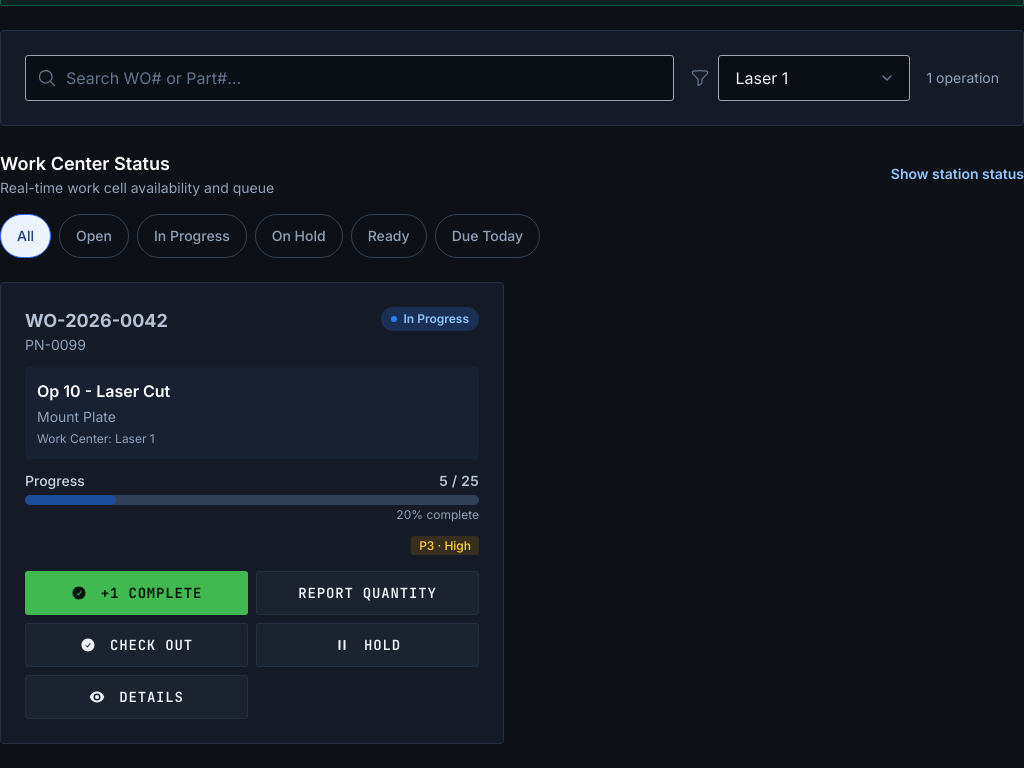
Scenario: ShopFloorSimple over-count correction › requires a reason and blocks submit until one is entered
The image size is (1024, 768).
(page scrolled)
Expected: the element with test id "shop-floor-op-101" is shown, [0,282,504,744]
Click the button "Report quantity": [368, 592] box [256,570,479,614]
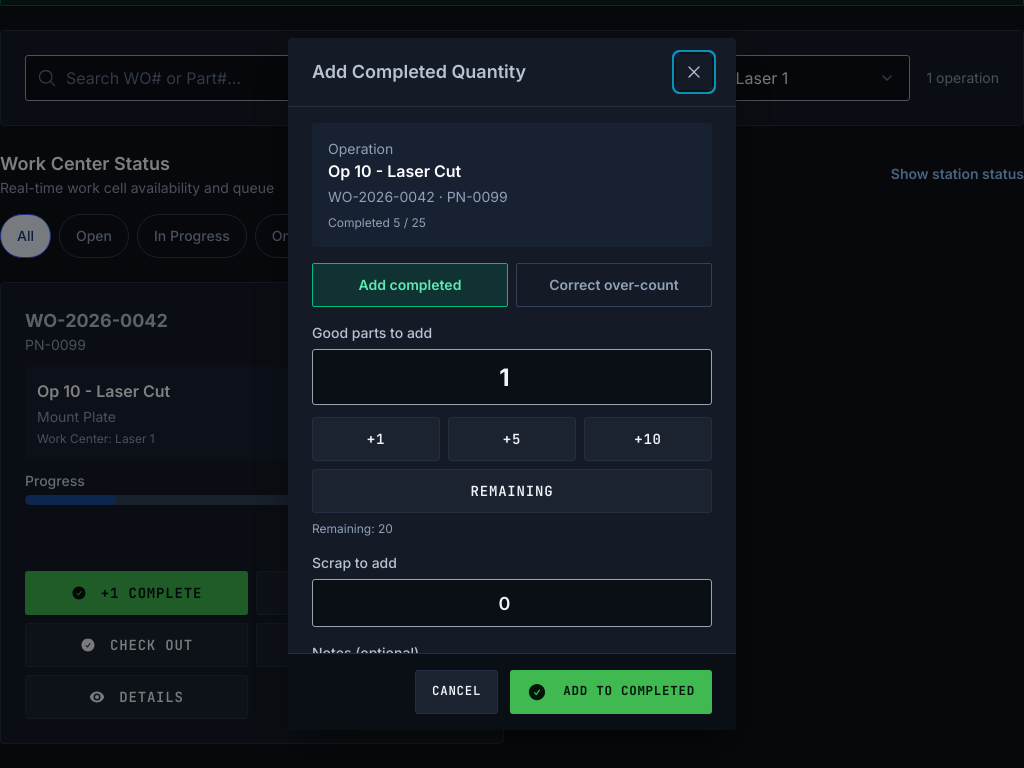
Expected: the heading "Add Completed Quantity" is shown, [312,58,526,86]
Click the button "Correct over-count": [614, 285] box [516,263,712,307]
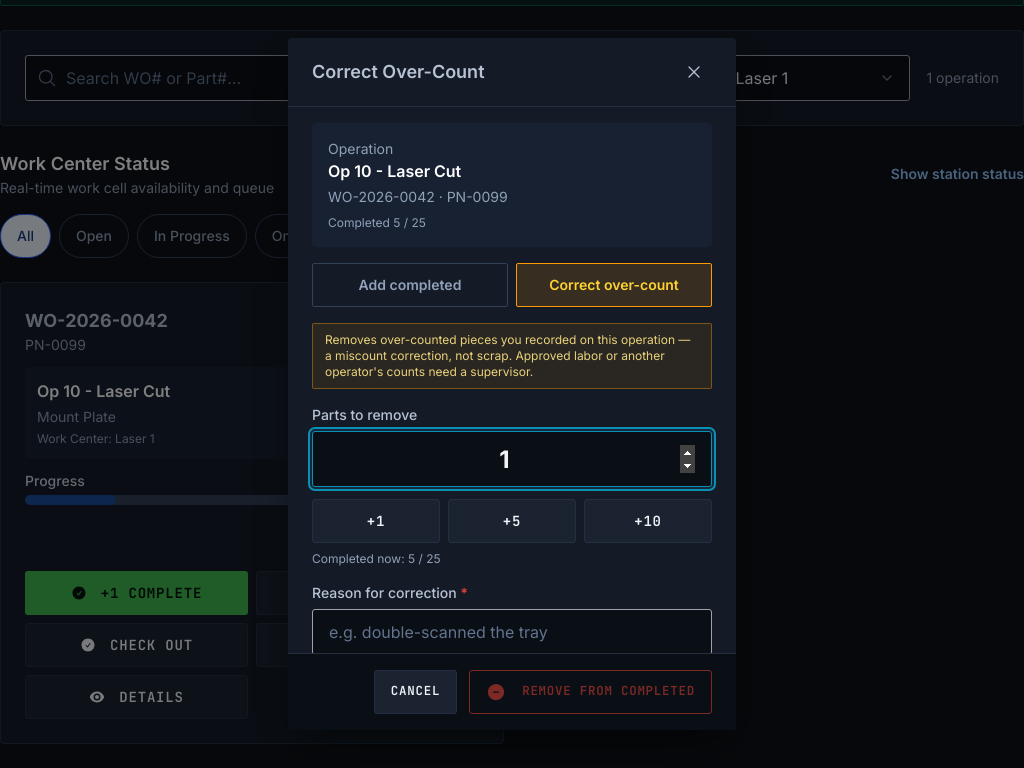
Expected: the button "Remove from Completed" is disabled, [469,670,712,714]
In the field labelled "Reason for correction *": [512, 632] box [312,609,712,655], type "double-scanned the tray"
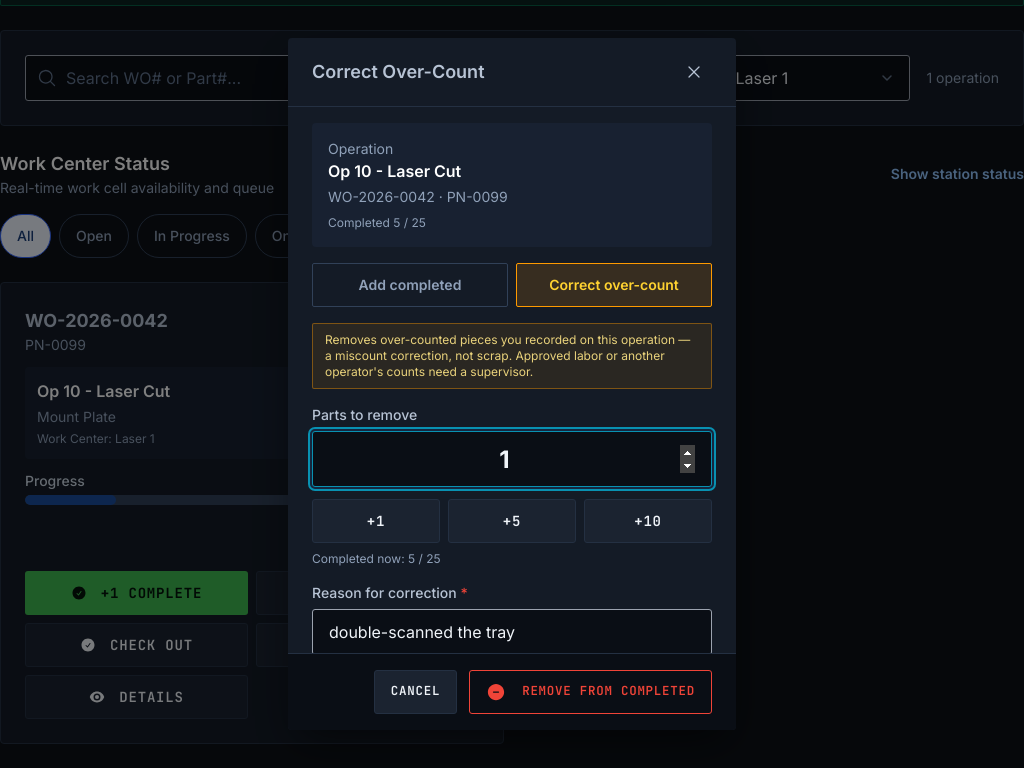
Expected: the button "Remove from Completed" is enabled, [469,670,712,714]
